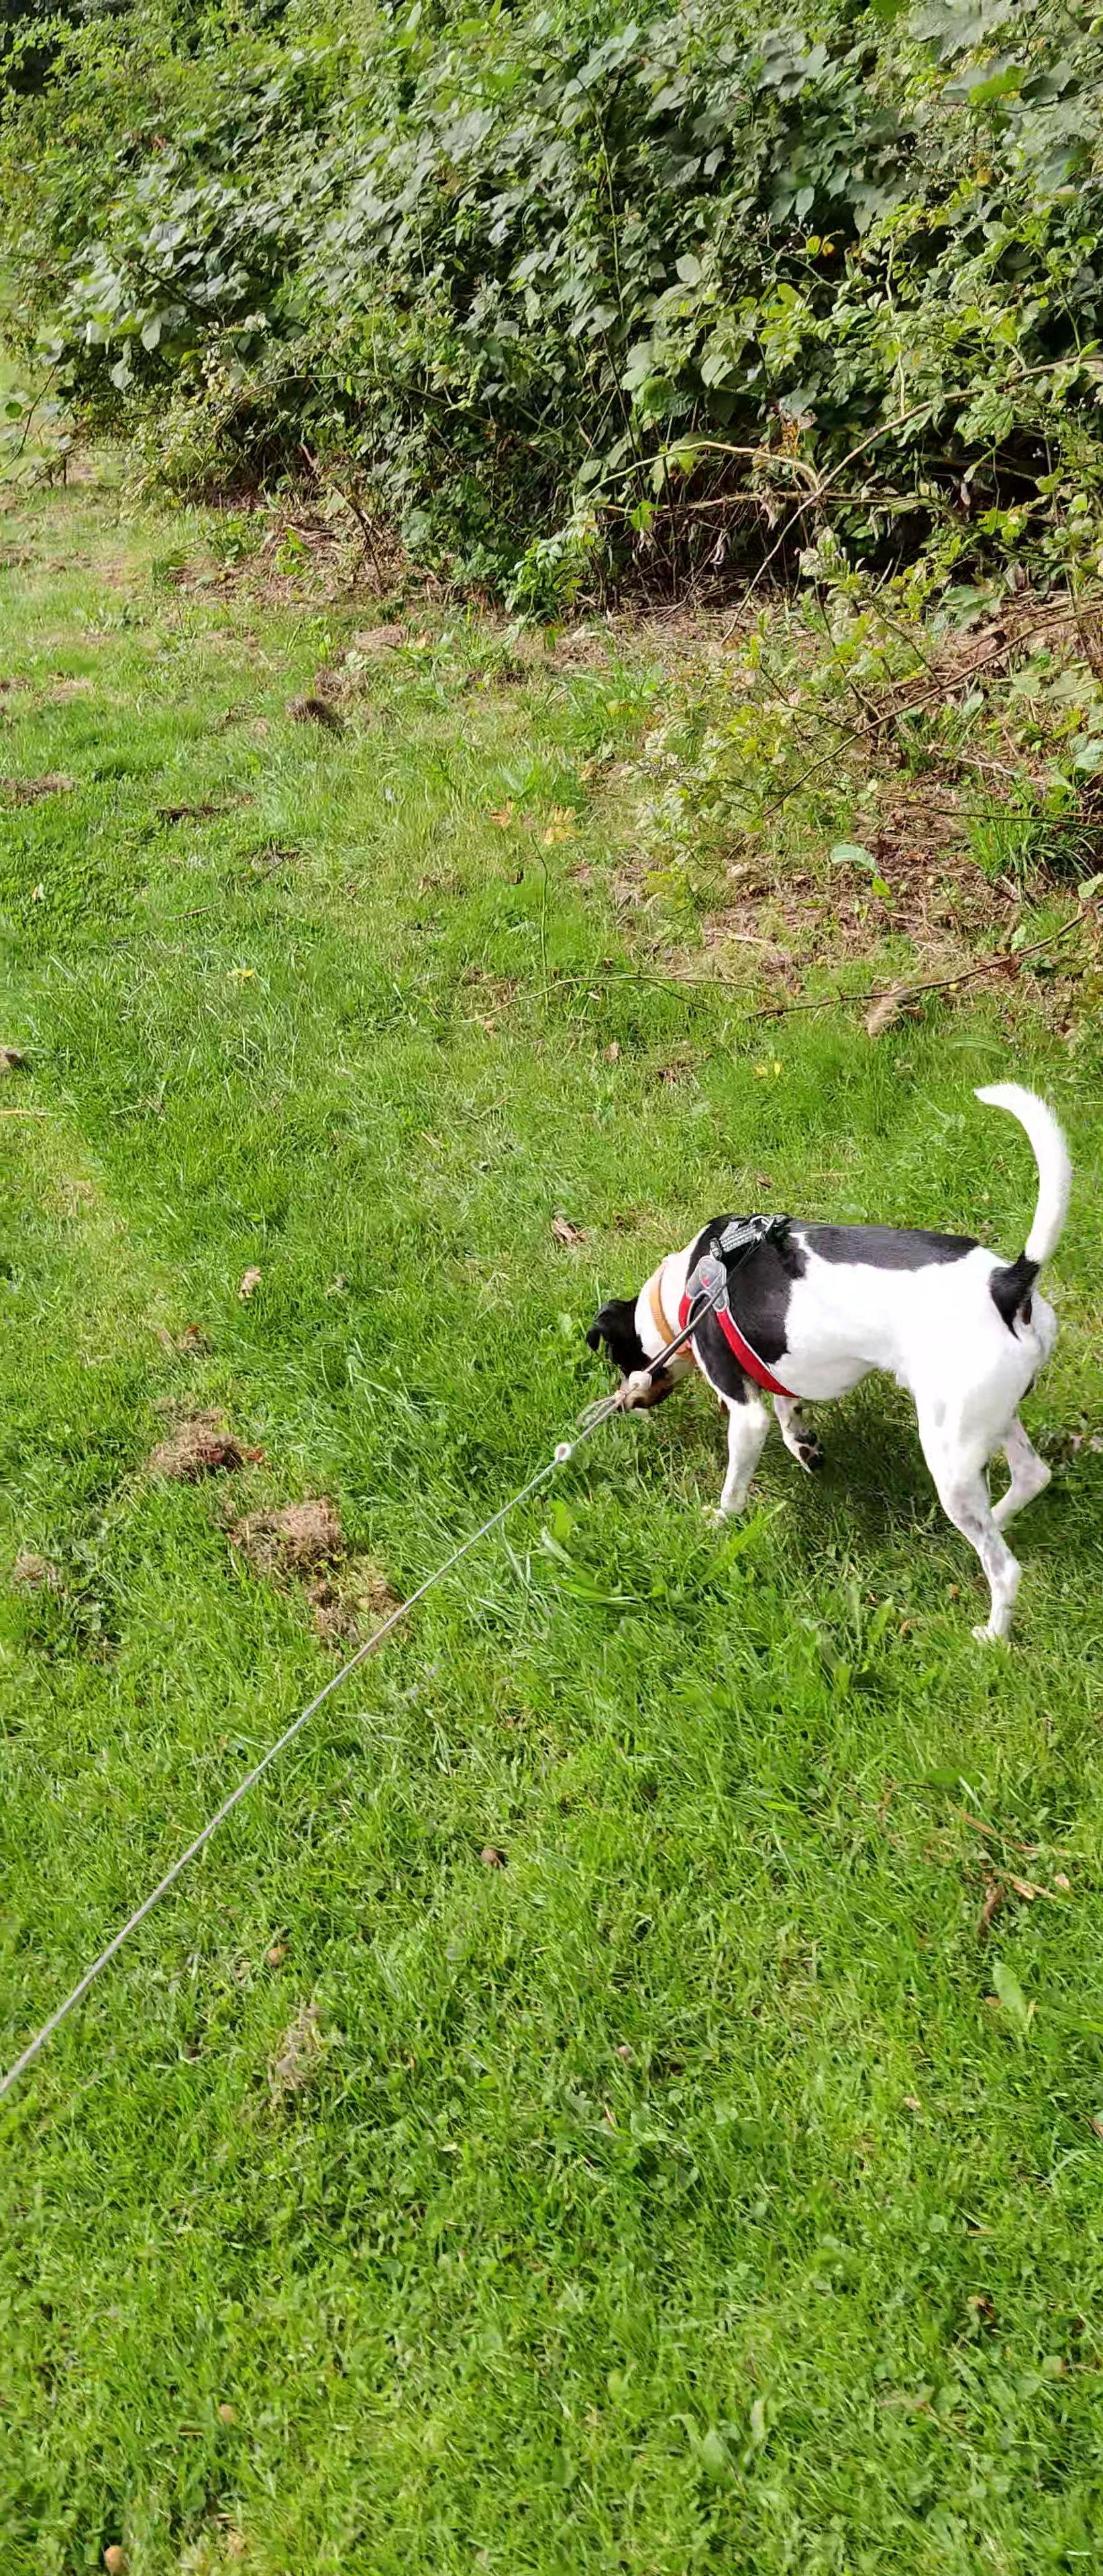Dog: (580, 1068, 1080, 1648)
